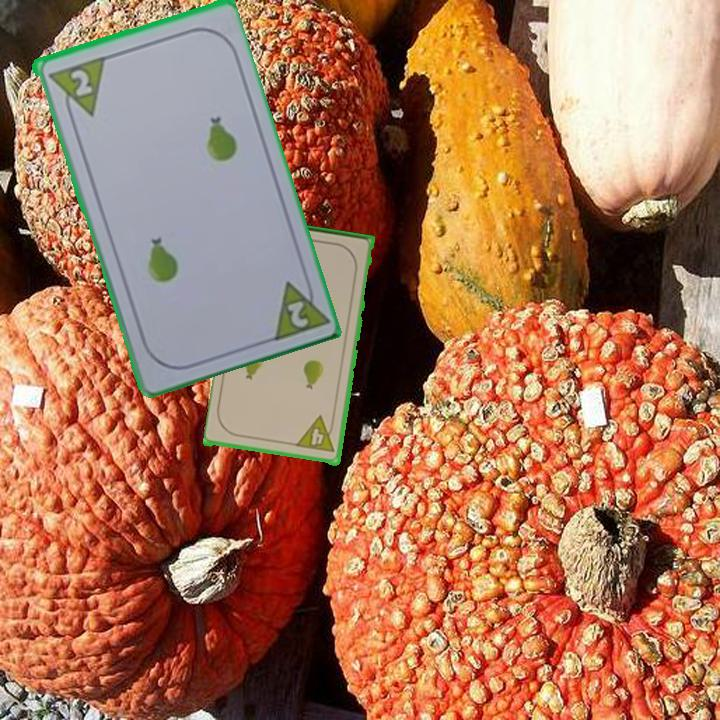2p: (282, 296, 311, 331), (66, 65, 95, 99)
4p: (293, 413, 338, 456)
